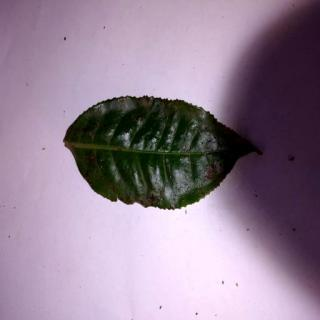Bird Eye Spot: (67, 97, 264, 212)
